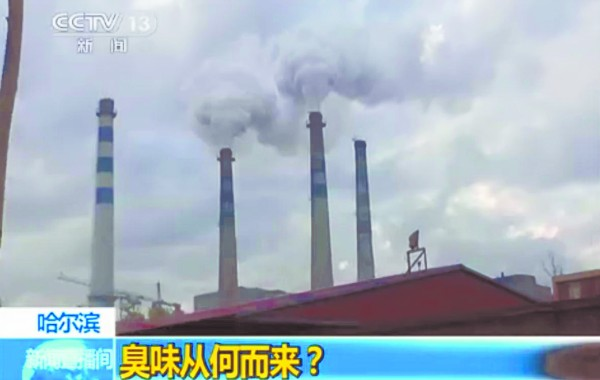dust: (276, 28, 397, 110), (186, 80, 276, 152)
